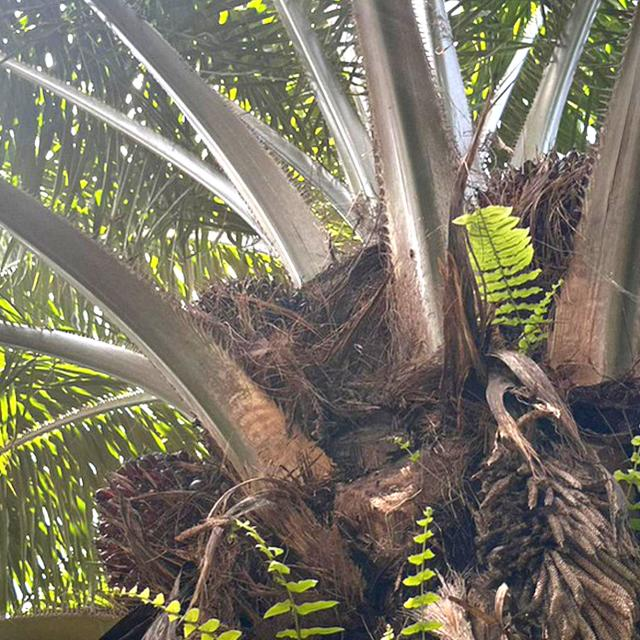unripe: (182, 268, 329, 404)
